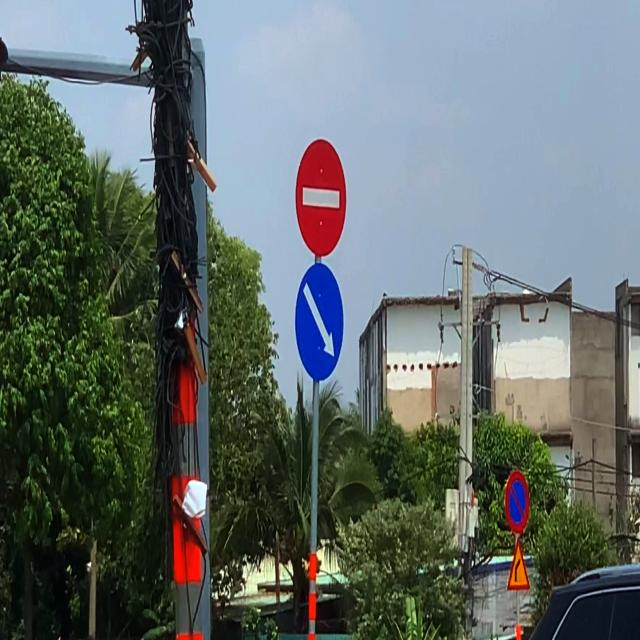Cam do: (506, 471, 530, 533)
Cam nguoc chieu: (295, 138, 347, 258)
Hieu lenh: (295, 262, 344, 381)
Nguy hiem: (508, 537, 530, 591)
